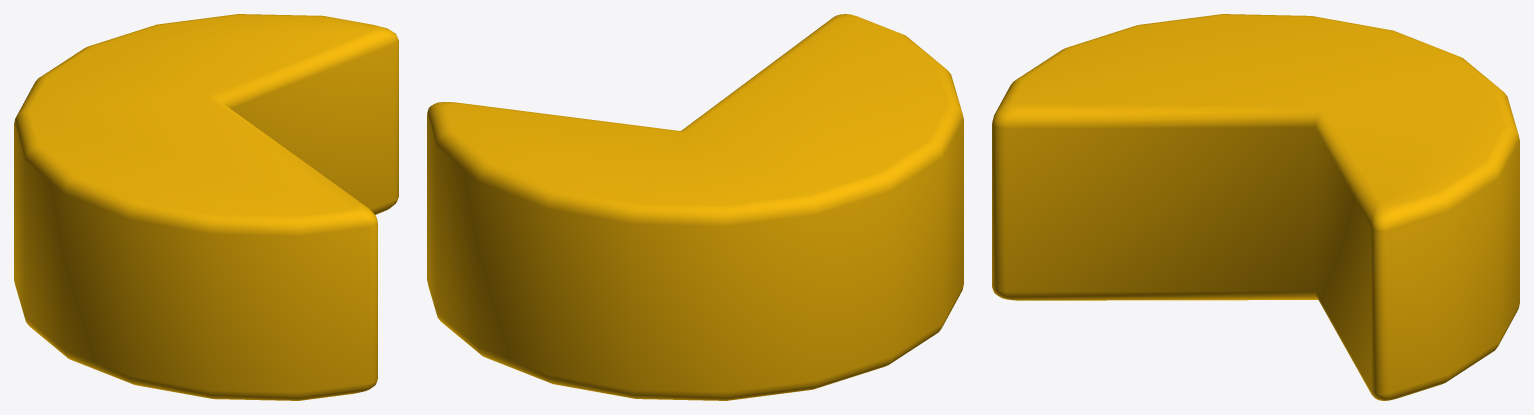
Rendered from Cheese_1.fbx.
The picture shows the model from 3 angles, left to right: view 1: azimuth 30°, elevation 25°; view 2: azimuth 150°, elevation 25°; view 3: azimuth 270°, elevation 25°; orthographic projection. The views are drawn at different scales.
Visible parts, largest first — view 1: Cheese_1; view 2: Cheese_1; view 3: Cheese_1.
Boxes of the visible parts, <box> form: Cheese_1: <box>14,14,398,400</box>; Cheese_1: <box>427,14,963,400</box>; Cheese_1: <box>992,14,1519,400</box>.
Size of the model in its own units: 32.19 by 13.78 by 34.45.
